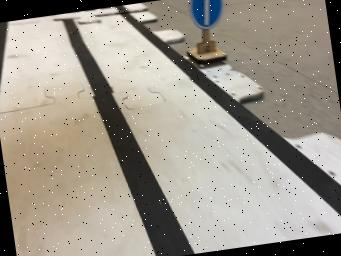forward: (188, 0, 228, 63), (188, 0, 228, 63), (188, 0, 228, 63)
street: (0, 6, 341, 256), (0, 6, 341, 256), (0, 6, 341, 256)
